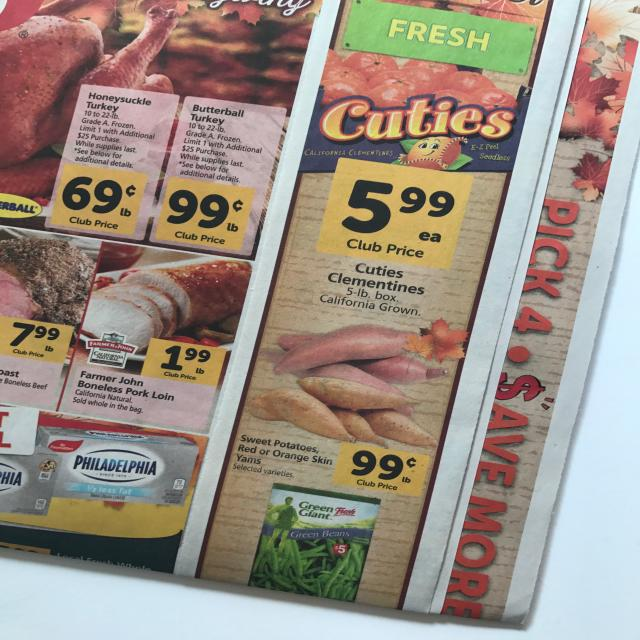paper: (2, 0, 640, 640)
